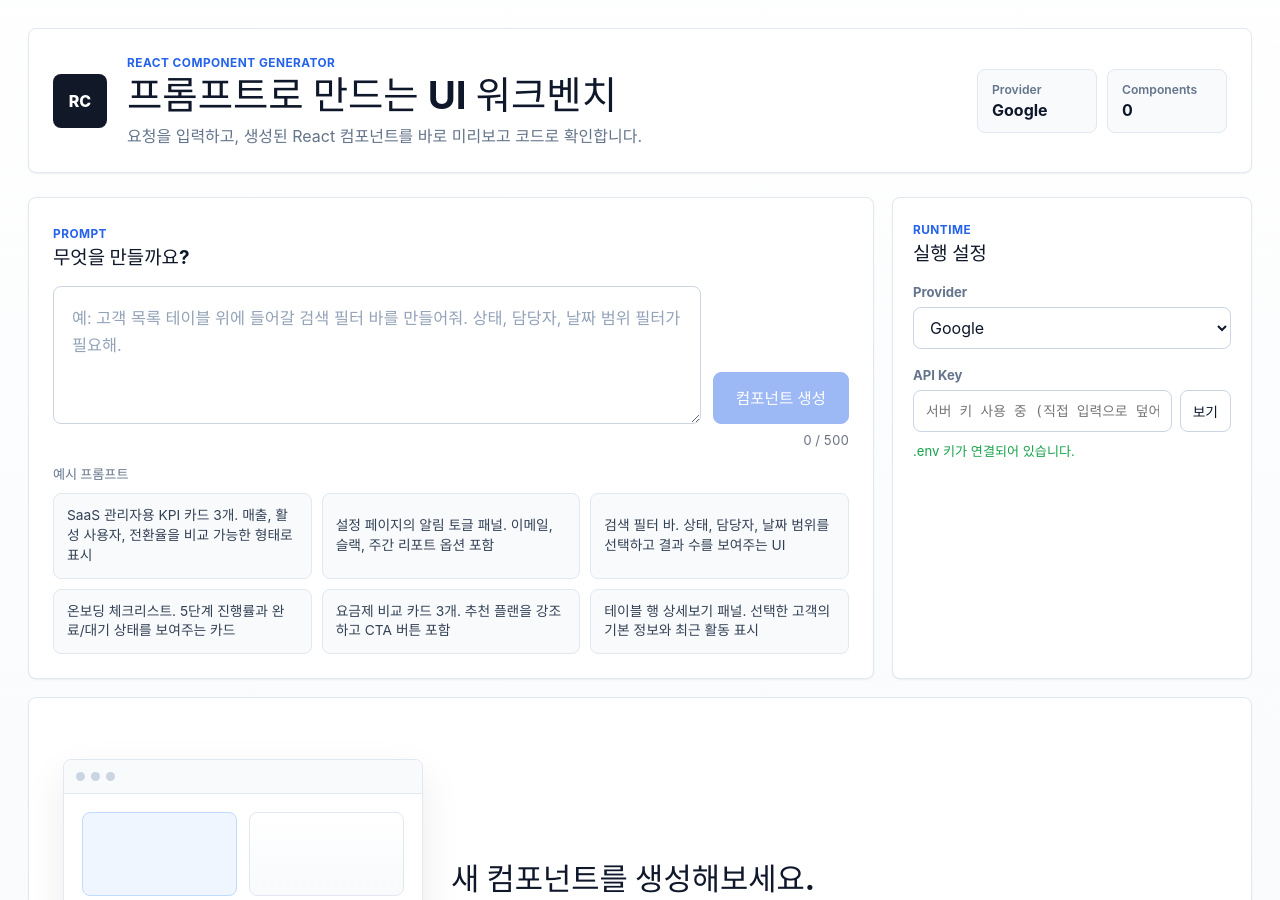
Test: App 상태 저장·복원 › 제출한 프롬프트를 히스토리에 저장하고 최근 프롬프트로 보여준다
The width and height of the screenshot is (1280, 900).
Expected: the password field with placeholder "서버 키 사용 중 (직접 입력으로 덮어쓰기 가능)" is shown, [913,390,1172,432]
Type "프로필 카드" into the text box. click: (377, 355)
box: [53,286,701,424]
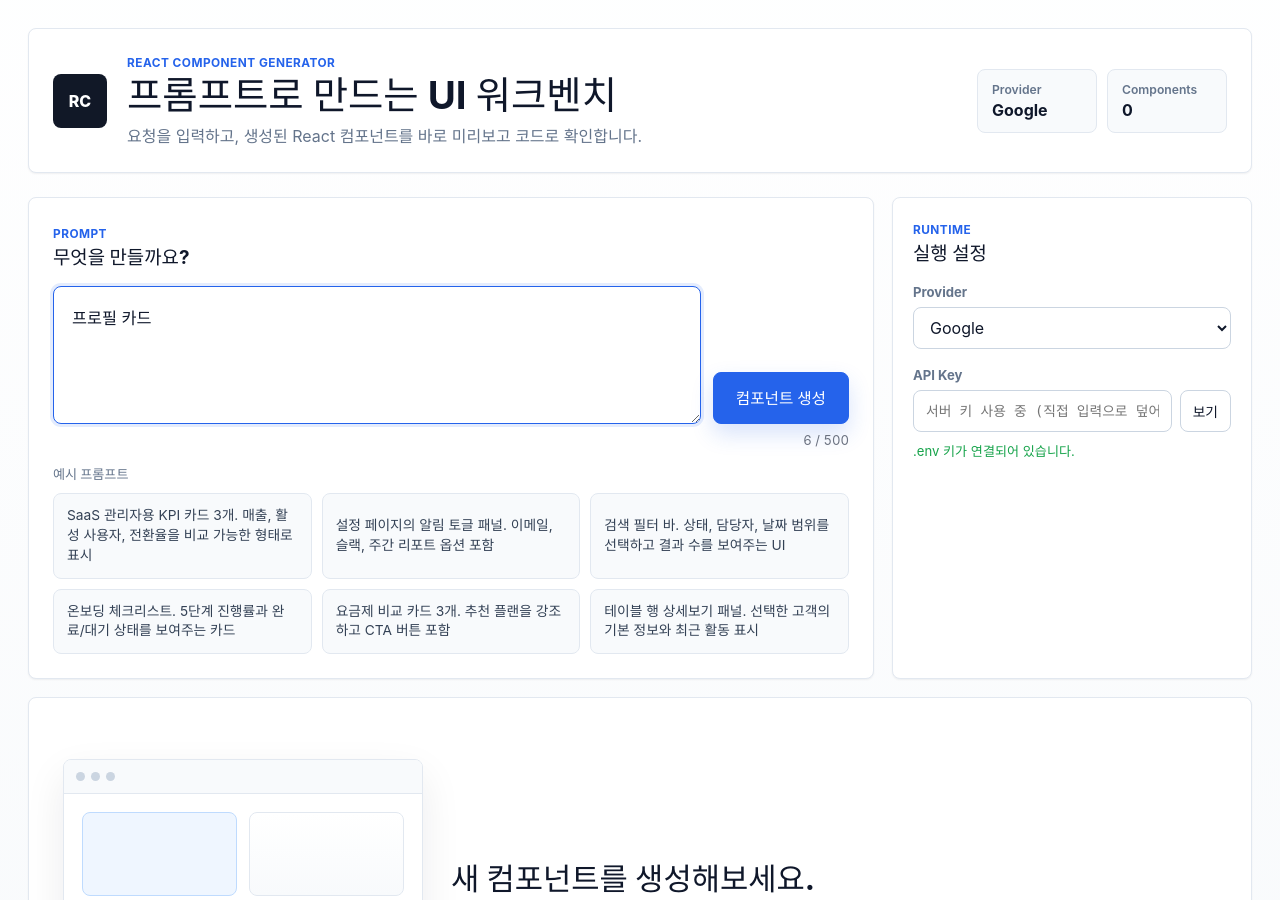
Click the button "컴포넌트 생성". click: (781, 398)
box: [713,372,849,424]
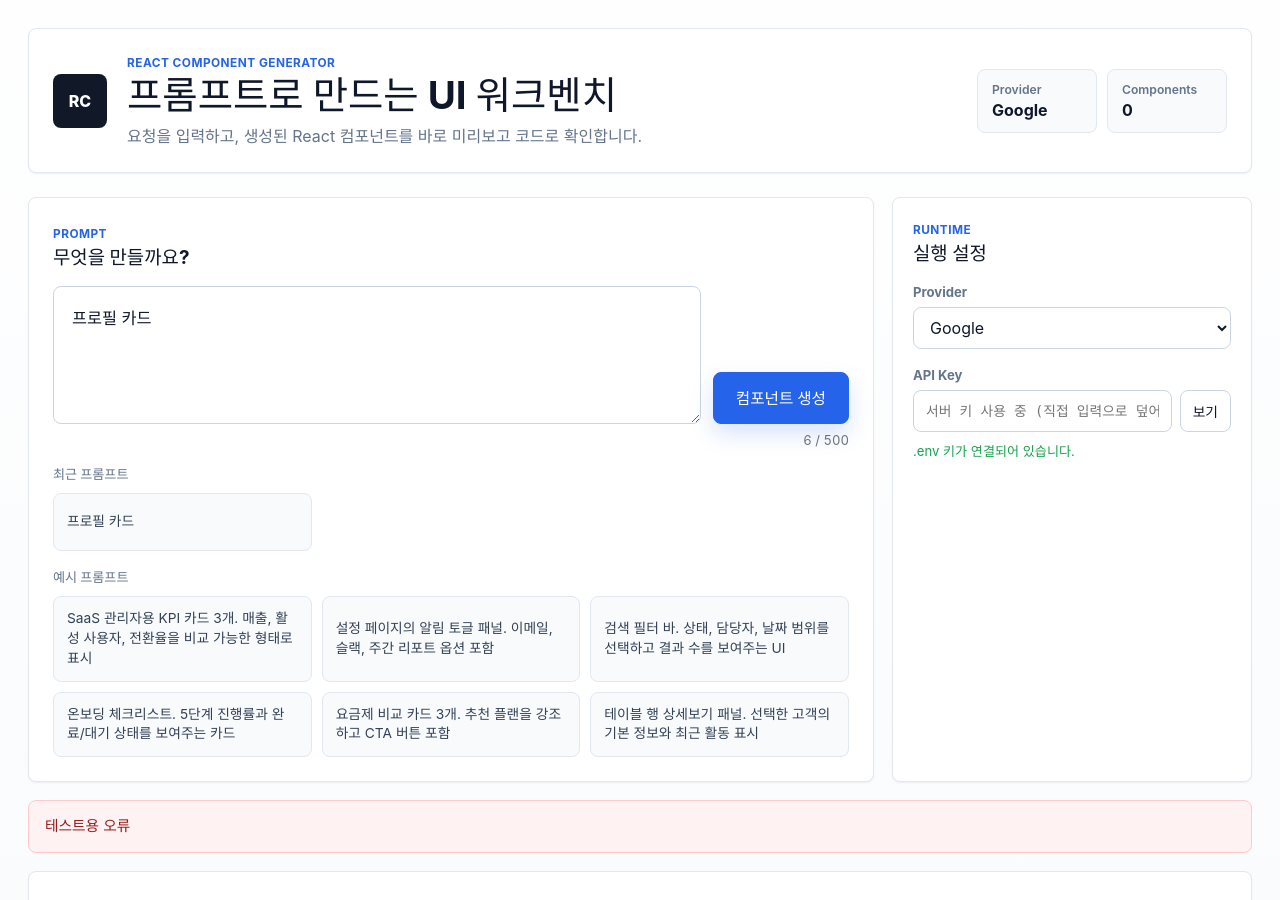
Expected: the button "프로필 카드" is shown, [53,493,312,551]
